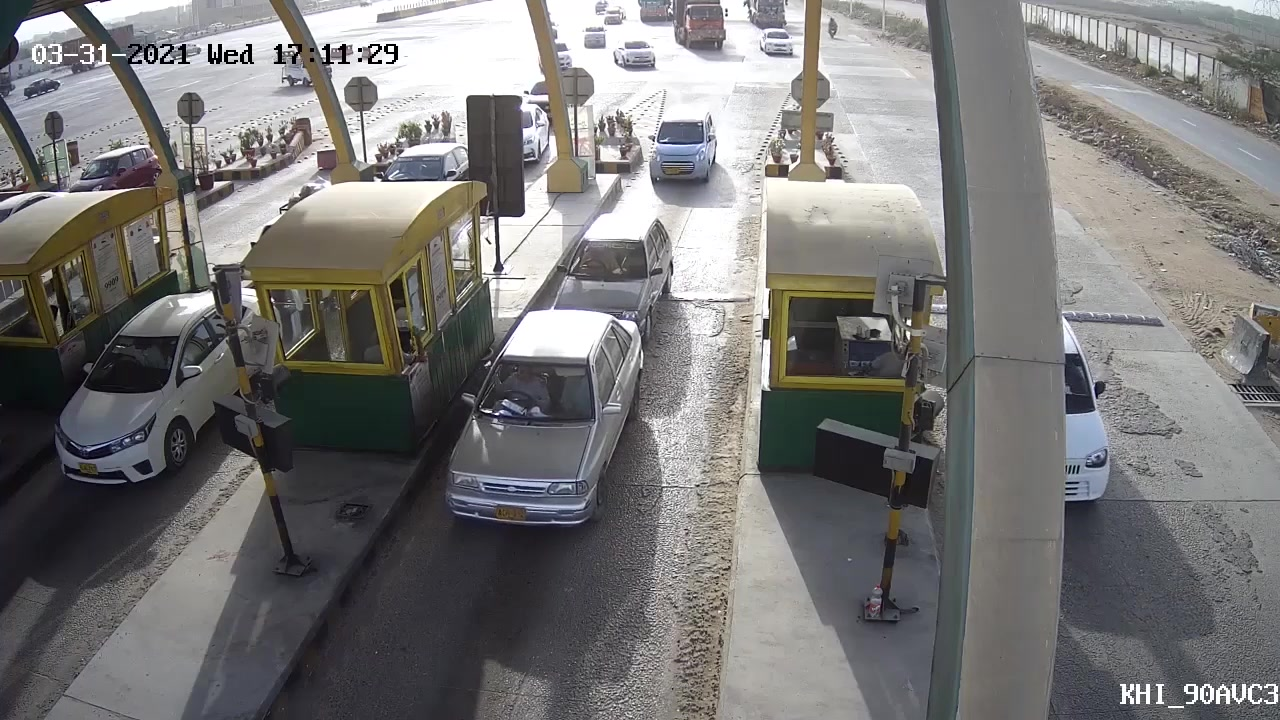F1: (422, 304, 650, 542), (548, 208, 679, 320), (639, 110, 724, 188)
